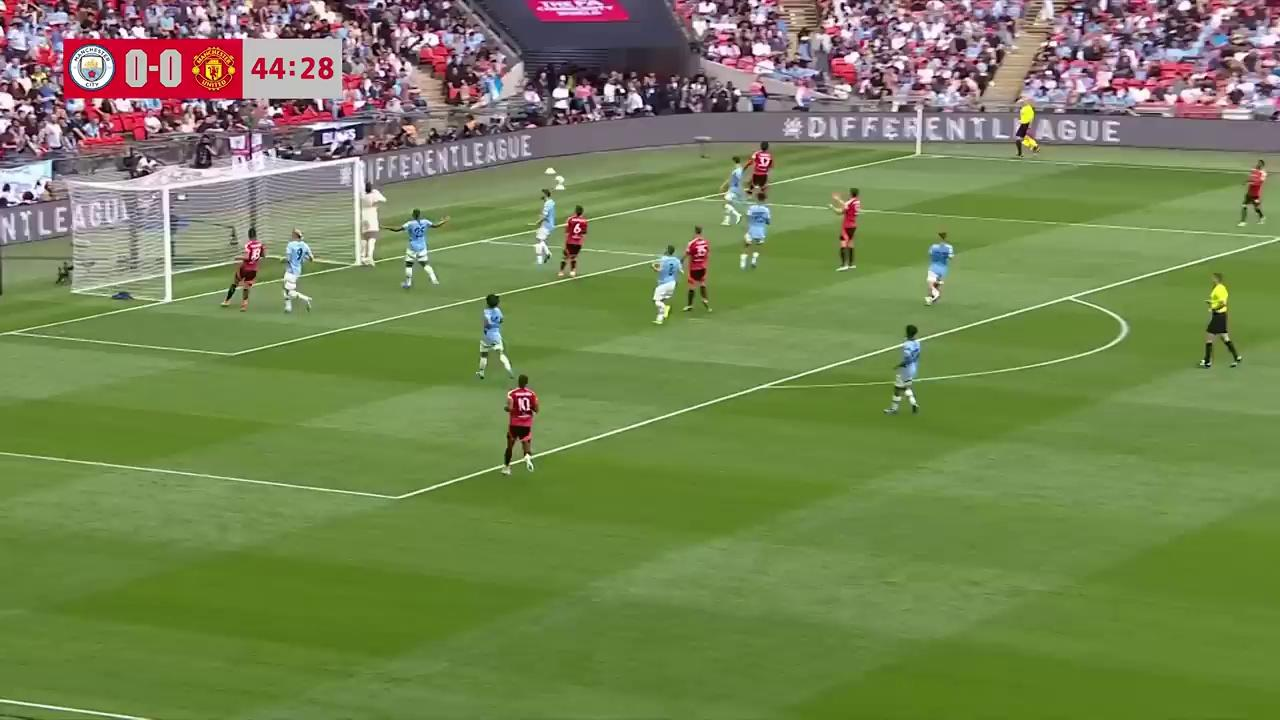player: (502, 372, 539, 476), (399, 209, 447, 289), (883, 324, 922, 416), (221, 232, 264, 312), (475, 293, 514, 380), (221, 233, 263, 311), (280, 230, 316, 314), (681, 225, 712, 314), (739, 192, 772, 270), (830, 188, 860, 271), (651, 244, 681, 325), (557, 205, 589, 279), (925, 230, 954, 305), (357, 188, 382, 267), (1238, 159, 1267, 226), (743, 142, 774, 202), (533, 190, 557, 265), (720, 163, 744, 226)
referee: (1199, 273, 1242, 369), (1013, 103, 1038, 159)
